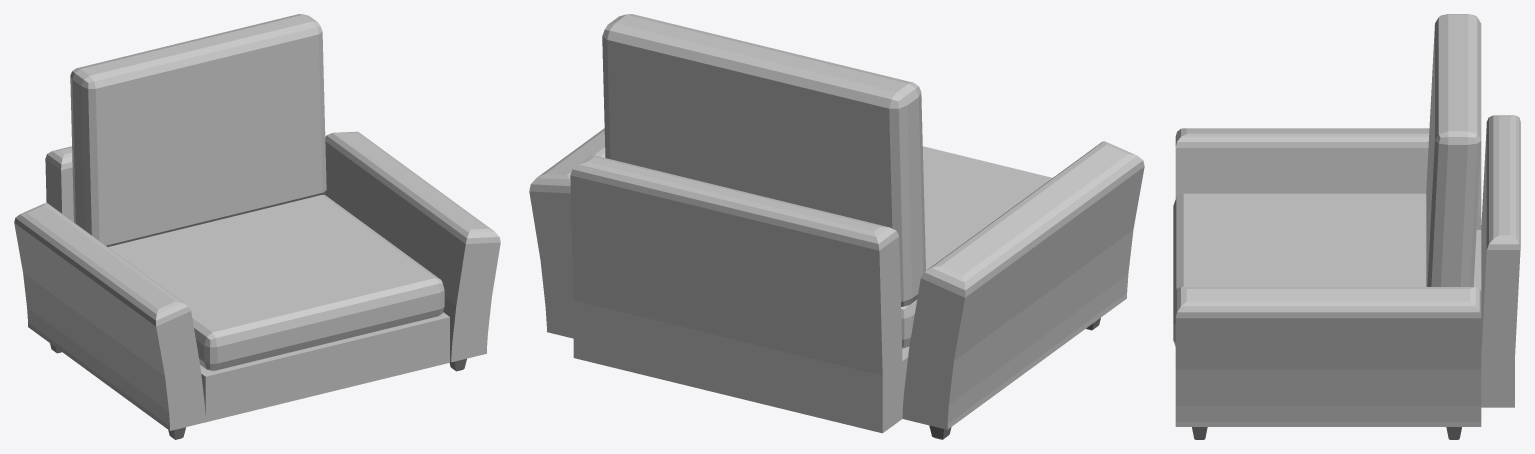
Rendered from Sofa_4.fbx.
3 views of the same model, side by side, from view 1: azimuth 30°, elevation 25°; view 2: azimuth 150°, elevation 25°; view 3: azimuth 270°, elevation 25° (orthographic). The views are drawn at different scales.
Parts seen in each view (by area): view 1: Sofa_4; view 2: Sofa_4; view 3: Sofa_4.
Part boxes in pixels (x1,y1,x2,y2): Sofa_4: [14, 14, 500, 439]; Sofa_4: [529, 14, 1144, 439]; Sofa_4: [1173, 14, 1520, 439].
Size of the model in its own units: 0.8643 by 0.6489 by 0.7005.
